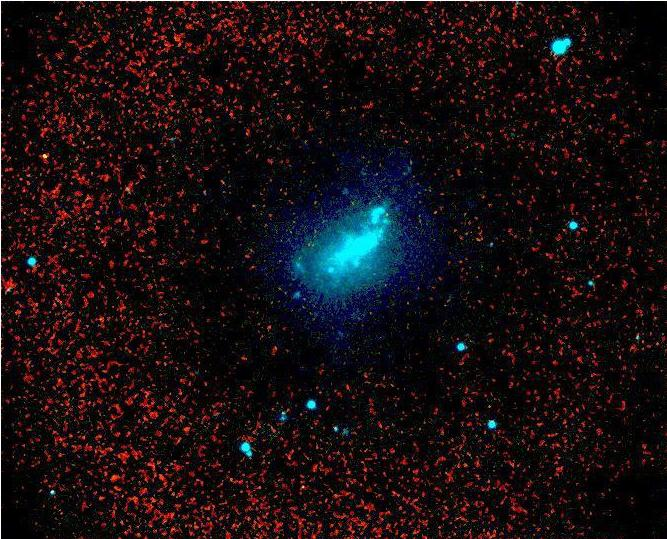star: (30, 143, 60, 173)
